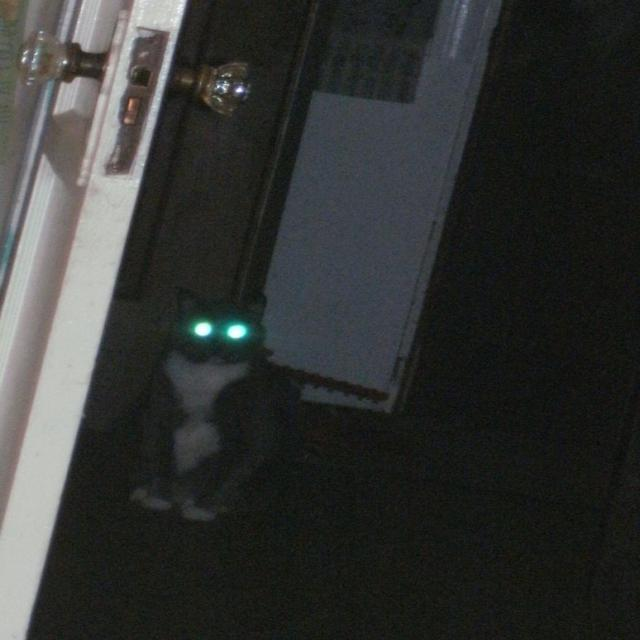Cat: (144, 278, 332, 544)
